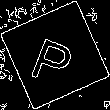P_N: (28, 24, 82, 86)
